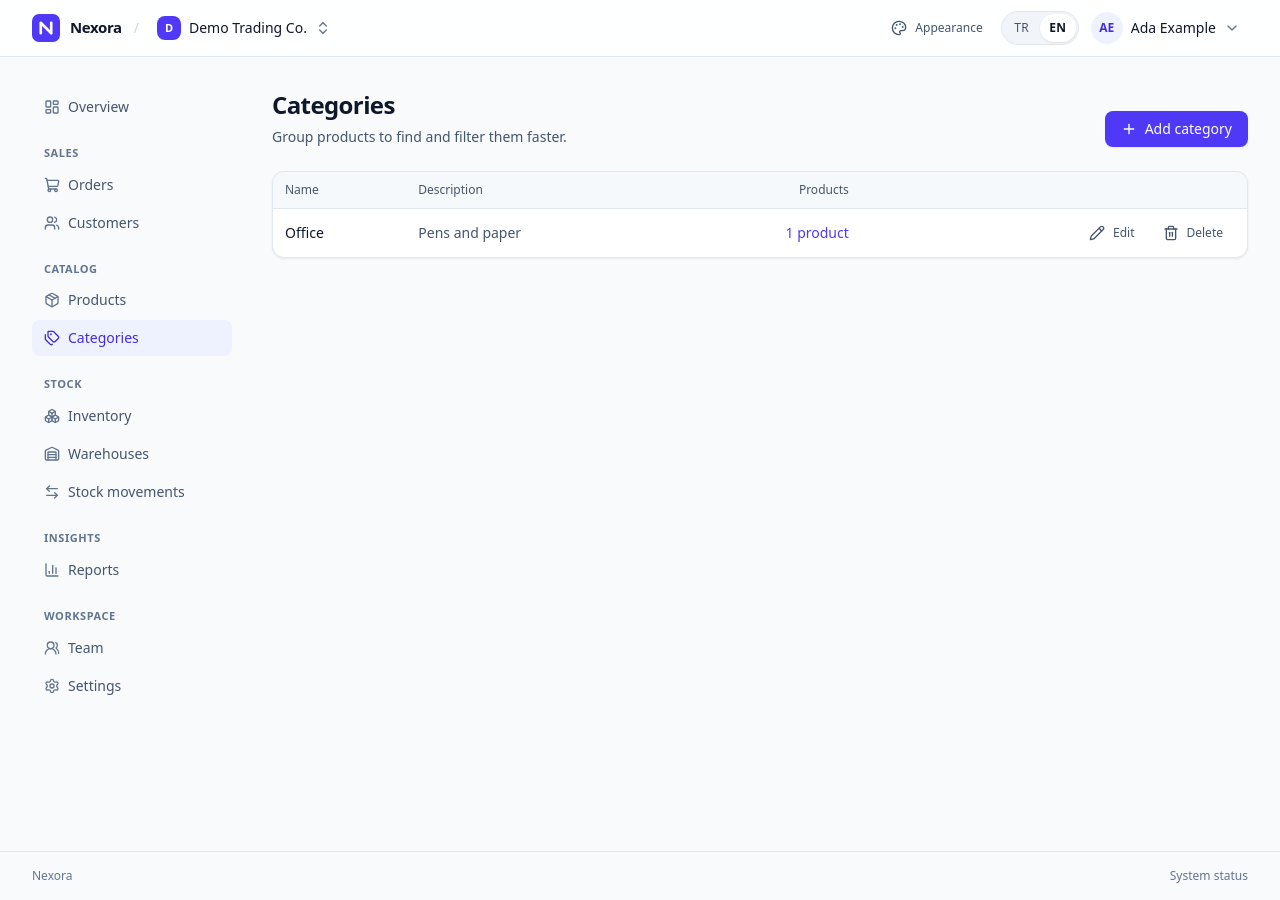
Test: CategoriesPage › edits a category with its current values prefilled
The image size is (1280, 900).
Expected: the heading "Categories" is shown, left=272, top=88, right=395, bottom=121
Click the button with aria-label "Edit Office" at (1112, 233), box left=1077, top=217, right=1146, bottom=249
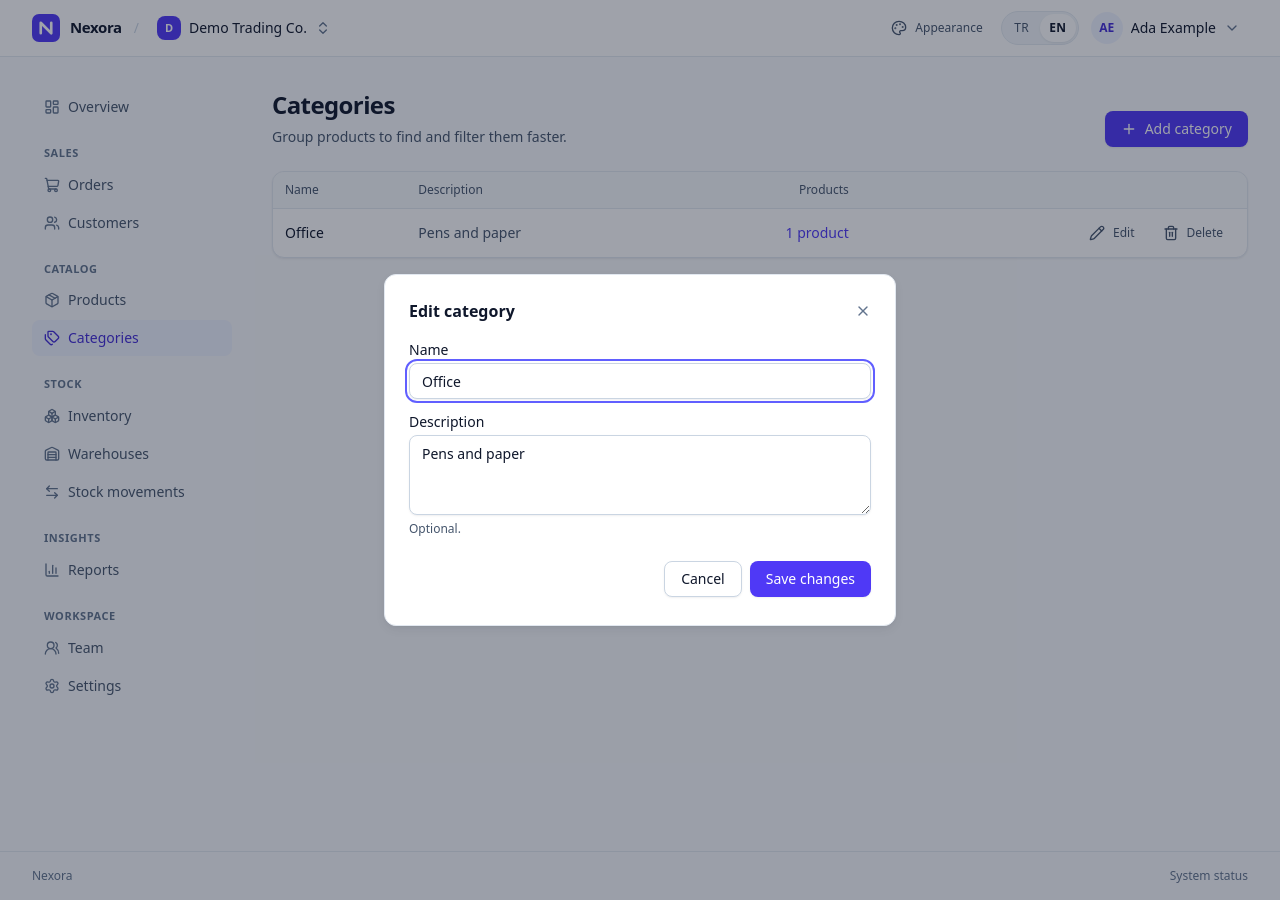
Now the field labelled "Name" holds "Office"
Now the text box labelled "Description" holds "Pens and paper", box left=409, top=435, right=871, bottom=515
Replace the text in the field labelled "Name" with "Office supplies" at (640, 381), box left=409, top=363, right=871, bottom=399
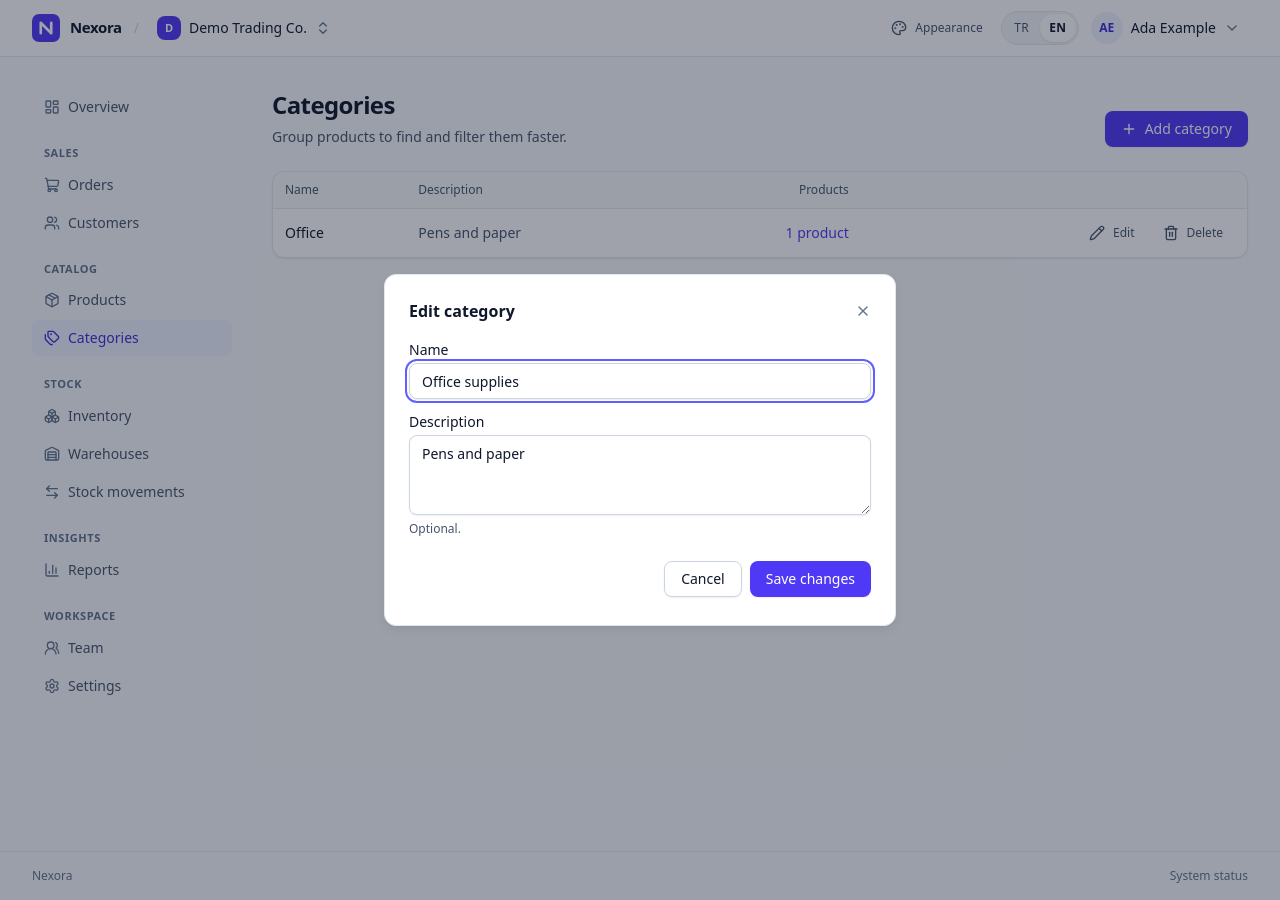
Click the button "Save changes" at (810, 579), box left=750, top=561, right=871, bottom=597
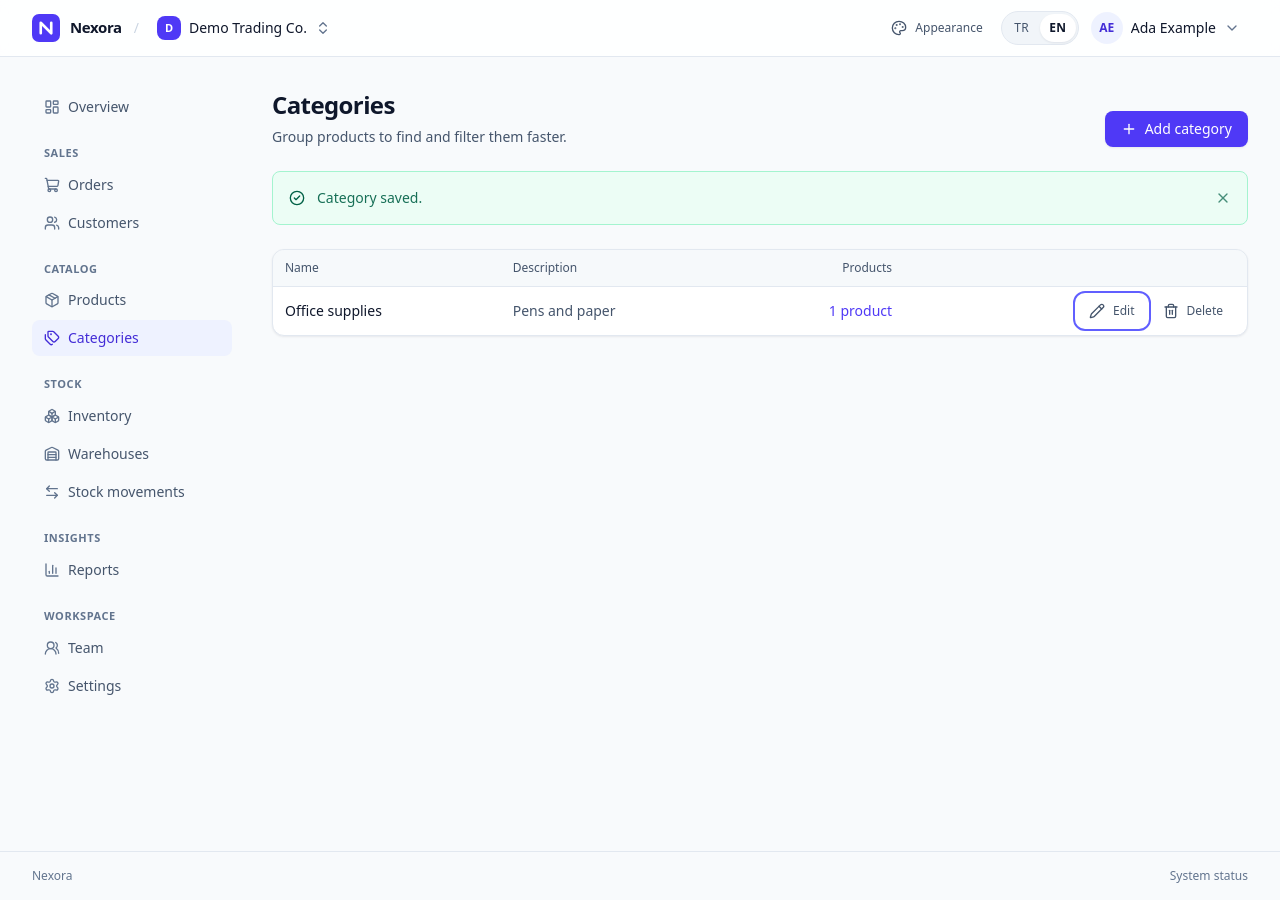
Now the text "Category saved." is shown, box left=317, top=188, right=422, bottom=207
Now the text "Office supplies" is shown, box left=273, top=286, right=501, bottom=335
